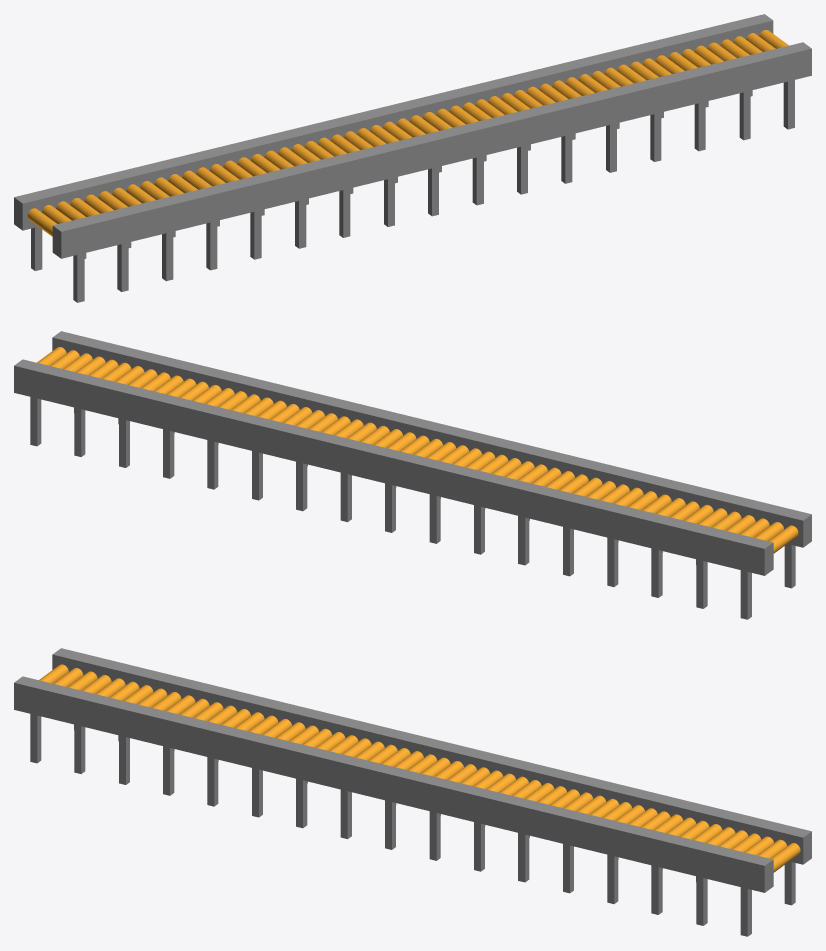
Rendered from PRODUCTION_STRAIGHT.fbx.
3 views of the same model, one above another, from view 1: azimuth 30°, elevation 25°; view 2: azimuth 150°, elevation 25°; view 3: azimuth 330°, elevation 25° (orthographic).
Parts seen in each view (by area): view 1: Cube.001, Cube.017; view 2: Cube.017, Cube.001; view 3: Cube.001, Cube.017.
Boxes of the visible parts, box(x1,y1,x2,y2) form: Cube.001: box(52, 42, 811, 302); Cube.017: box(14, 14, 773, 270); Cube.017: box(14, 359, 773, 619); Cube.001: box(52, 331, 811, 588); Cube.001: box(14, 676, 773, 936); Cube.017: box(52, 648, 811, 905).
Size of the model in its own units: 1014 by 96.99 by 111.
